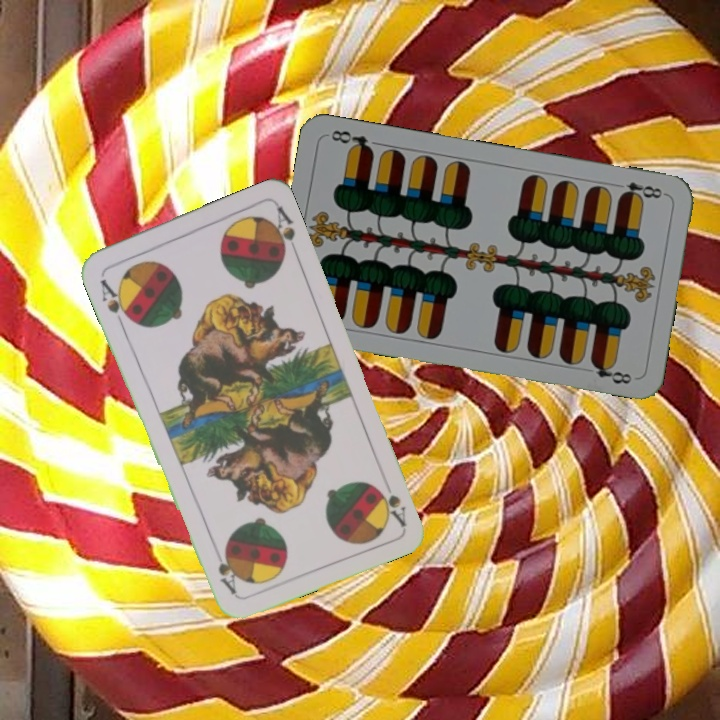E8: (610, 178, 669, 203)
SA: (371, 472, 409, 529), (96, 274, 135, 328)
